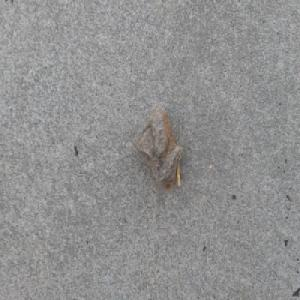Rock: (132, 104, 183, 191)
